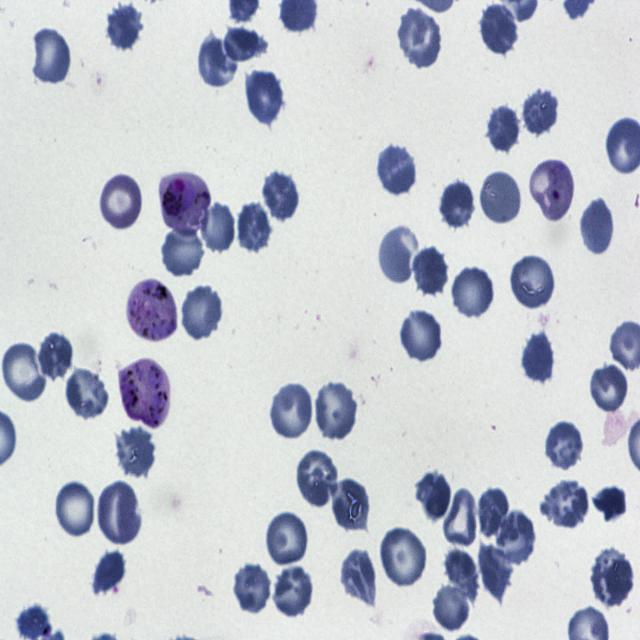difficult: (127, 278, 178, 344), (160, 171, 210, 231)
red blood cell: (97, 478, 143, 547), (396, 6, 444, 70), (314, 378, 360, 442), (379, 528, 427, 589), (269, 380, 315, 441), (590, 547, 635, 609), (450, 263, 497, 322), (99, 171, 144, 232), (294, 448, 339, 509), (376, 223, 419, 286), (510, 253, 556, 311), (54, 479, 98, 539), (29, 25, 72, 86), (264, 510, 310, 567), (542, 477, 592, 529), (494, 508, 538, 567), (63, 367, 110, 422), (160, 224, 207, 279), (180, 282, 224, 340), (270, 562, 314, 620), (479, 169, 523, 226), (400, 307, 444, 363), (3, 344, 46, 401), (578, 195, 616, 259), (114, 424, 158, 479), (331, 475, 372, 534), (480, 541, 516, 608), (443, 487, 482, 548), (243, 68, 284, 126), (194, 36, 238, 89), (589, 360, 631, 414), (232, 560, 272, 616), (376, 142, 417, 196), (478, 3, 520, 55), (444, 546, 480, 605), (412, 244, 451, 298), (520, 84, 559, 138), (198, 200, 236, 255), (521, 328, 557, 386), (544, 422, 585, 472), (339, 550, 376, 605), (262, 170, 300, 223), (37, 328, 74, 382), (106, 3, 147, 51), (431, 584, 471, 633), (237, 199, 273, 253), (416, 469, 452, 522), (438, 179, 474, 231), (478, 485, 511, 541), (486, 105, 522, 155), (92, 547, 128, 596), (222, 24, 266, 63)
ring: (528, 158, 575, 225)
trophozoite: (119, 357, 172, 427)
